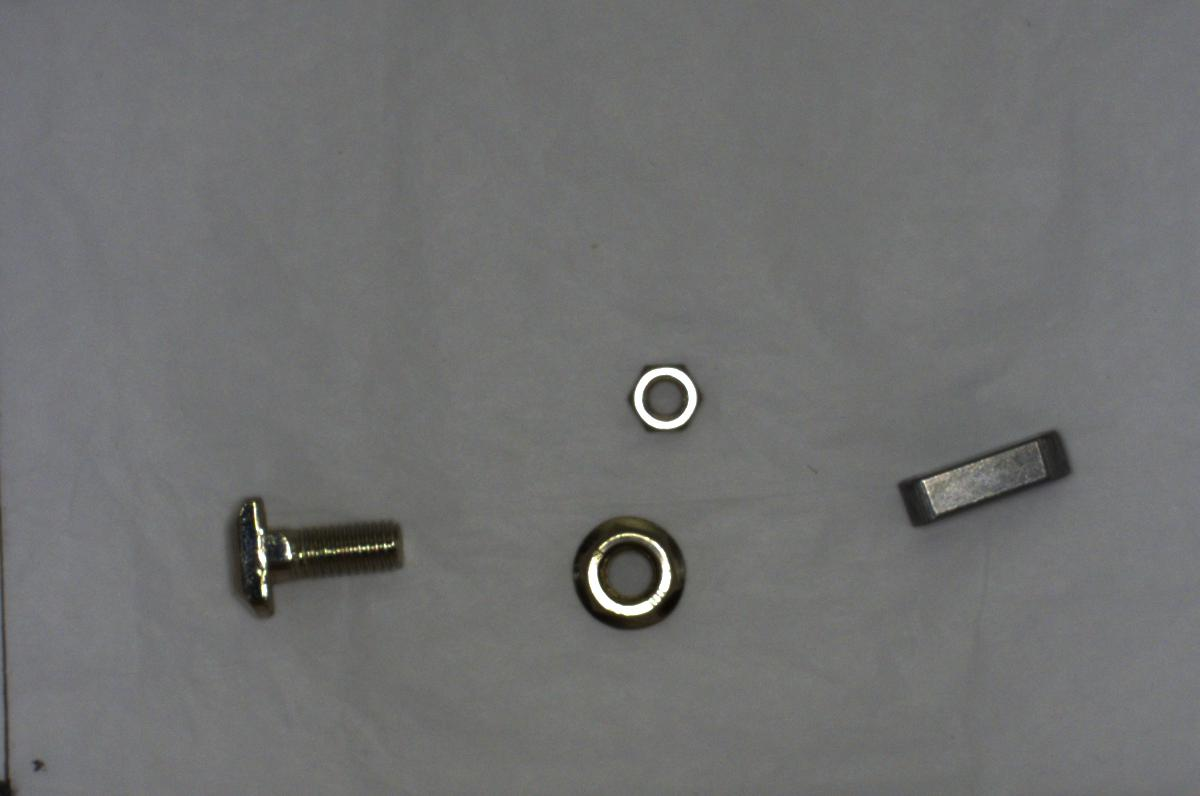Flange nut: (558, 508, 693, 634)
Hexagon nut: (613, 349, 708, 440)
Keybar: (893, 427, 1080, 526)
T-shaped screw: (222, 485, 407, 620)
